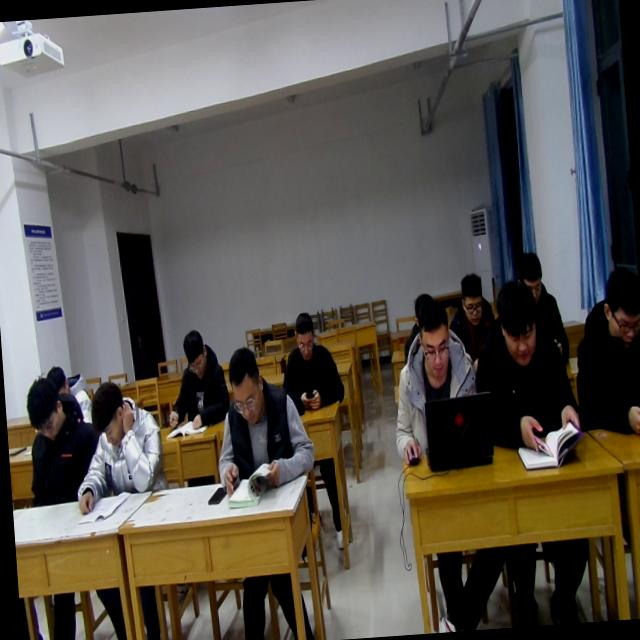down: (492, 278, 544, 372), (410, 295, 456, 385), (594, 257, 640, 347), (224, 341, 264, 424), (23, 371, 67, 445), (86, 376, 128, 446), (454, 267, 486, 327), (514, 245, 546, 304), (179, 324, 210, 378), (290, 308, 318, 362), (41, 359, 71, 396)
sit: (467, 276, 582, 460), (384, 299, 486, 470), (206, 345, 318, 500), (66, 378, 166, 518), (565, 257, 640, 431), (19, 369, 92, 505), (276, 308, 346, 417), (162, 326, 225, 429), (508, 244, 558, 322), (43, 353, 94, 423), (454, 263, 496, 348)
